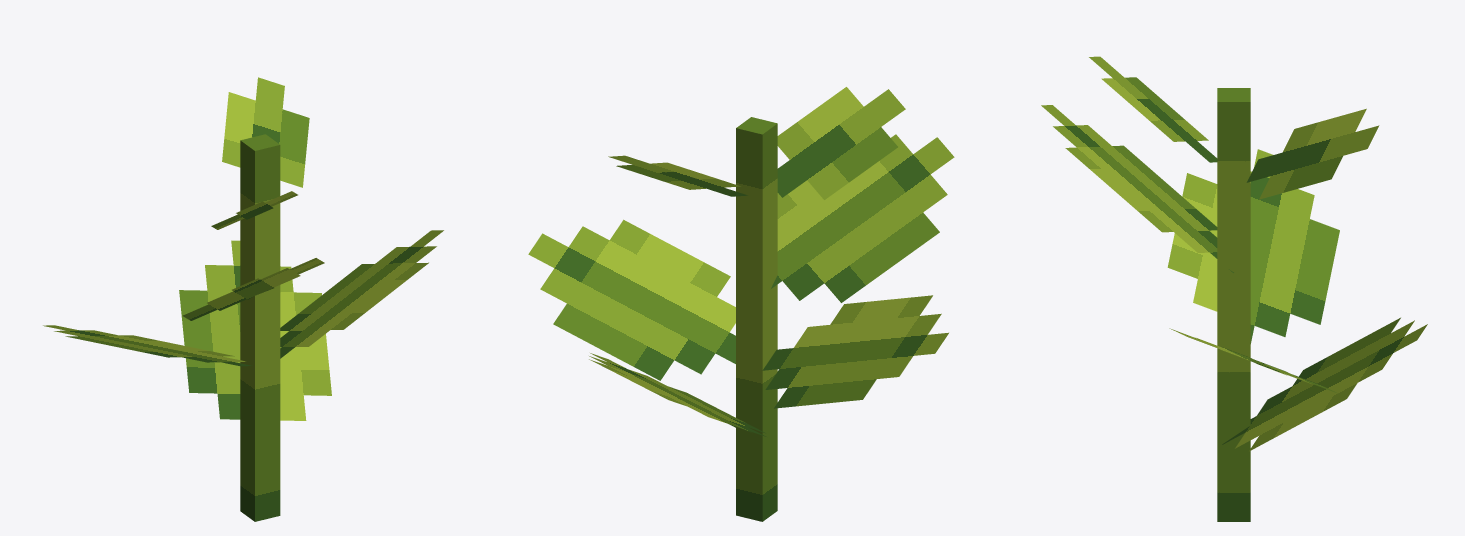
The model's file is sunflower-stage2.gltf.
3 renders of one model, left to right at view 1: azimuth 30°, elevation 25°; view 2: azimuth 150°, elevation 25°; view 3: azimuth 270°, elevation 25°, orthographic. The views are drawn at different scales.
Parts seen in each view (by area): view 1: cube (×7); view 2: cube (×7); view 3: cube (×7).
Boxes of the visible parts, x1,y1,x2,y2 form: cube (×7): (43, 77, 443, 521); cube (×7): (528, 87, 954, 521); cube (×7): (1041, 56, 1427, 521).
Bounding box in the file's own units: 0.9619 × 0.9878 × 0.8177.
1 material, 1 textured.
